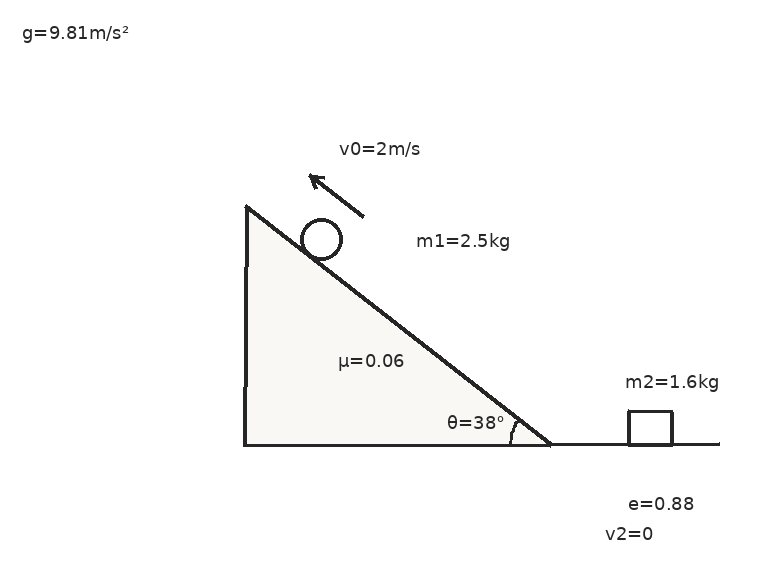ball: (298, 216, 344, 262)
block: (626, 410, 674, 446)
ramp: (243, 204, 552, 446)
